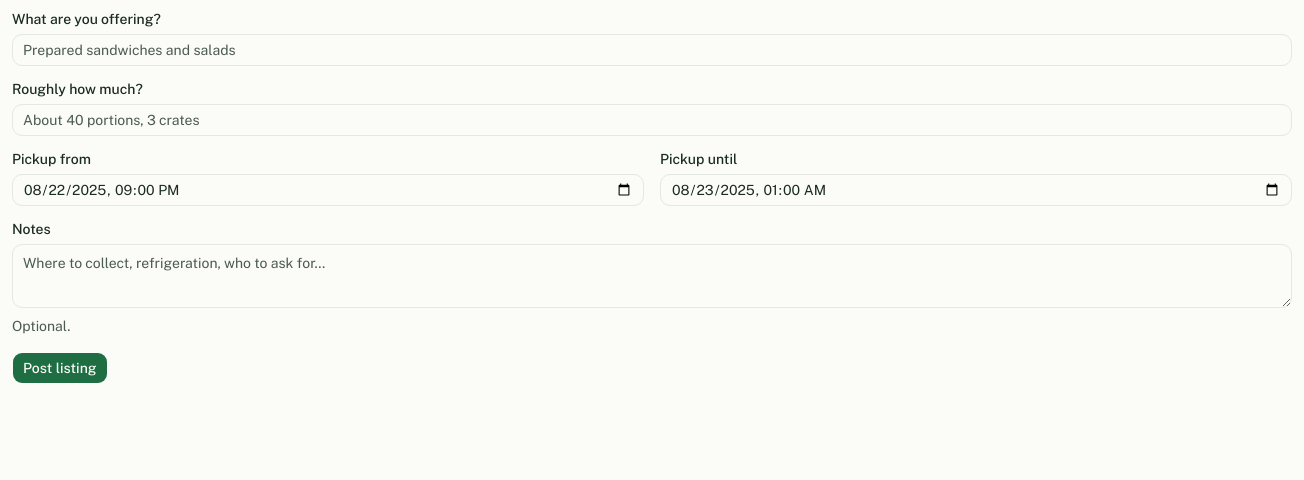
Test: ListingForm › shows a server-side field error
Type "Soup" into the field labelled "What are you offering?" at point(652, 50), box [12, 34, 1292, 66]
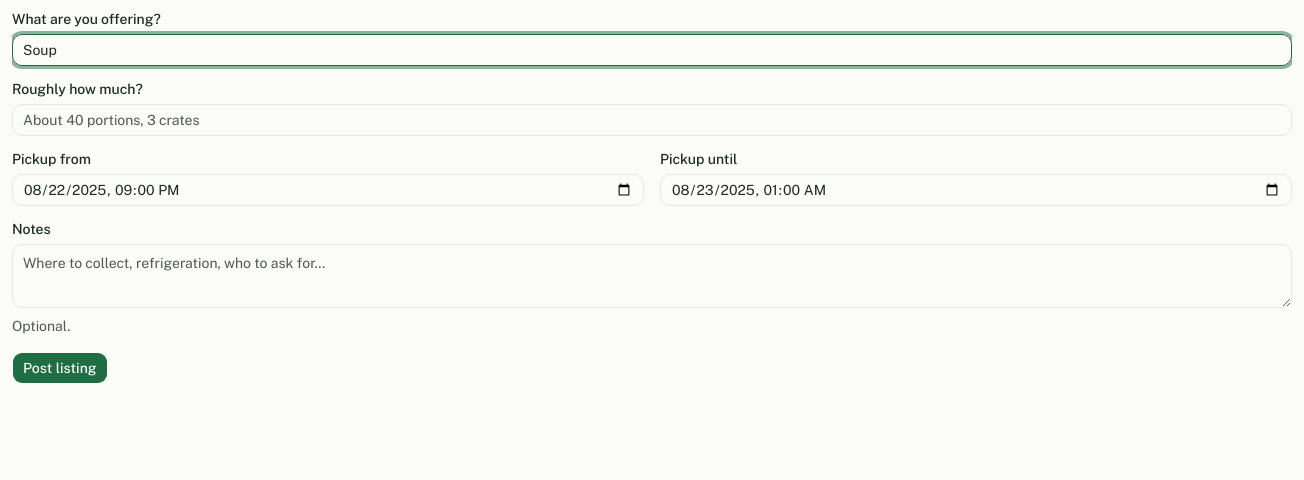
Type "20 portions" into the field labelled "Roughly how much?" at point(652, 120), box [12, 104, 1292, 136]
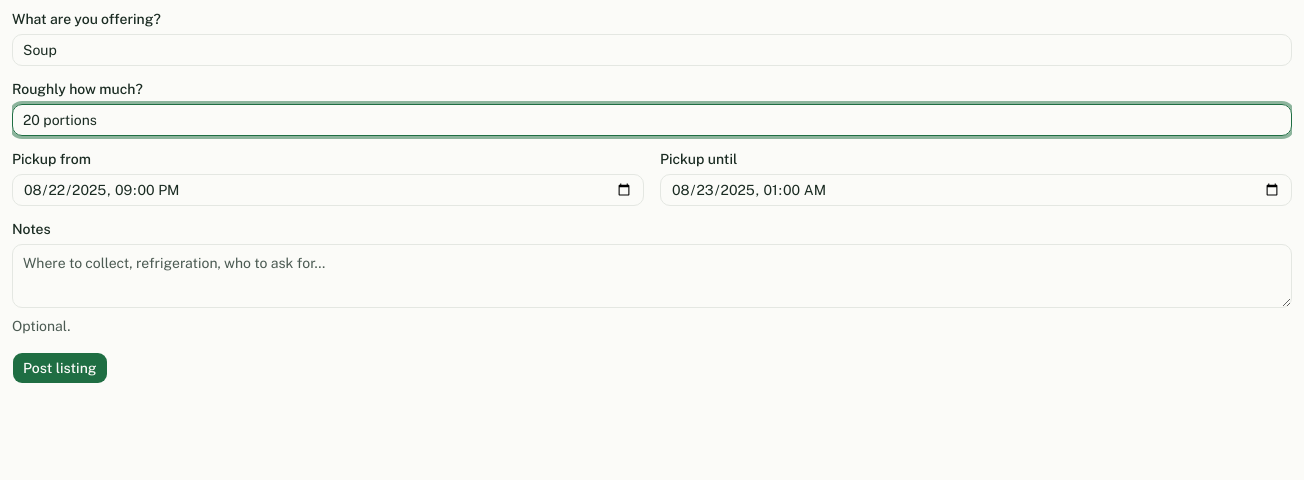
Click the button "Post listing" at point(60, 368), box [12, 352, 108, 384]
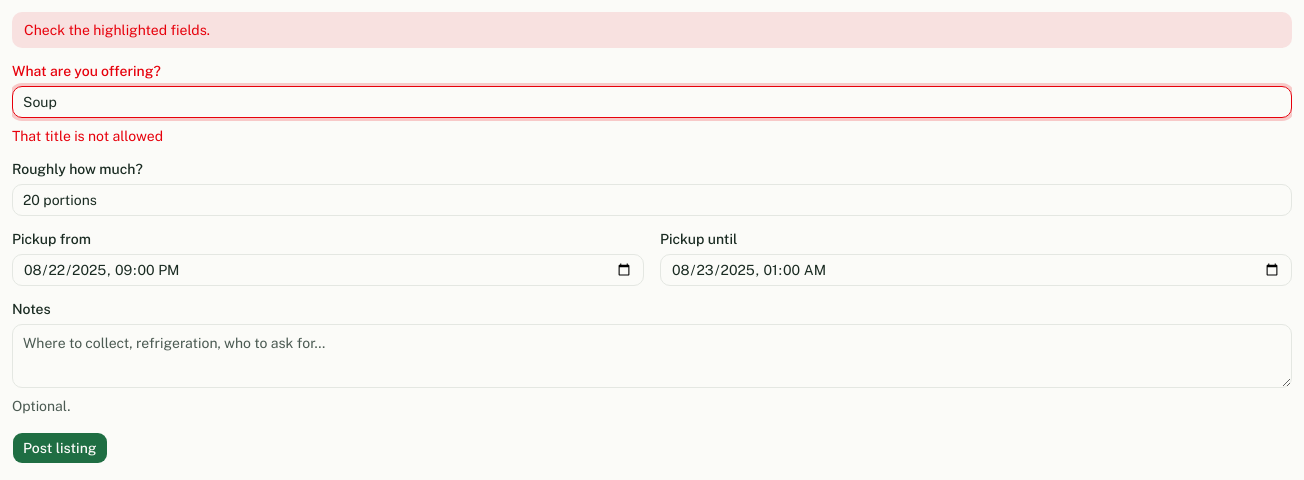
Check: the text "That title is not allowed" is shown, box [12, 128, 163, 144]
